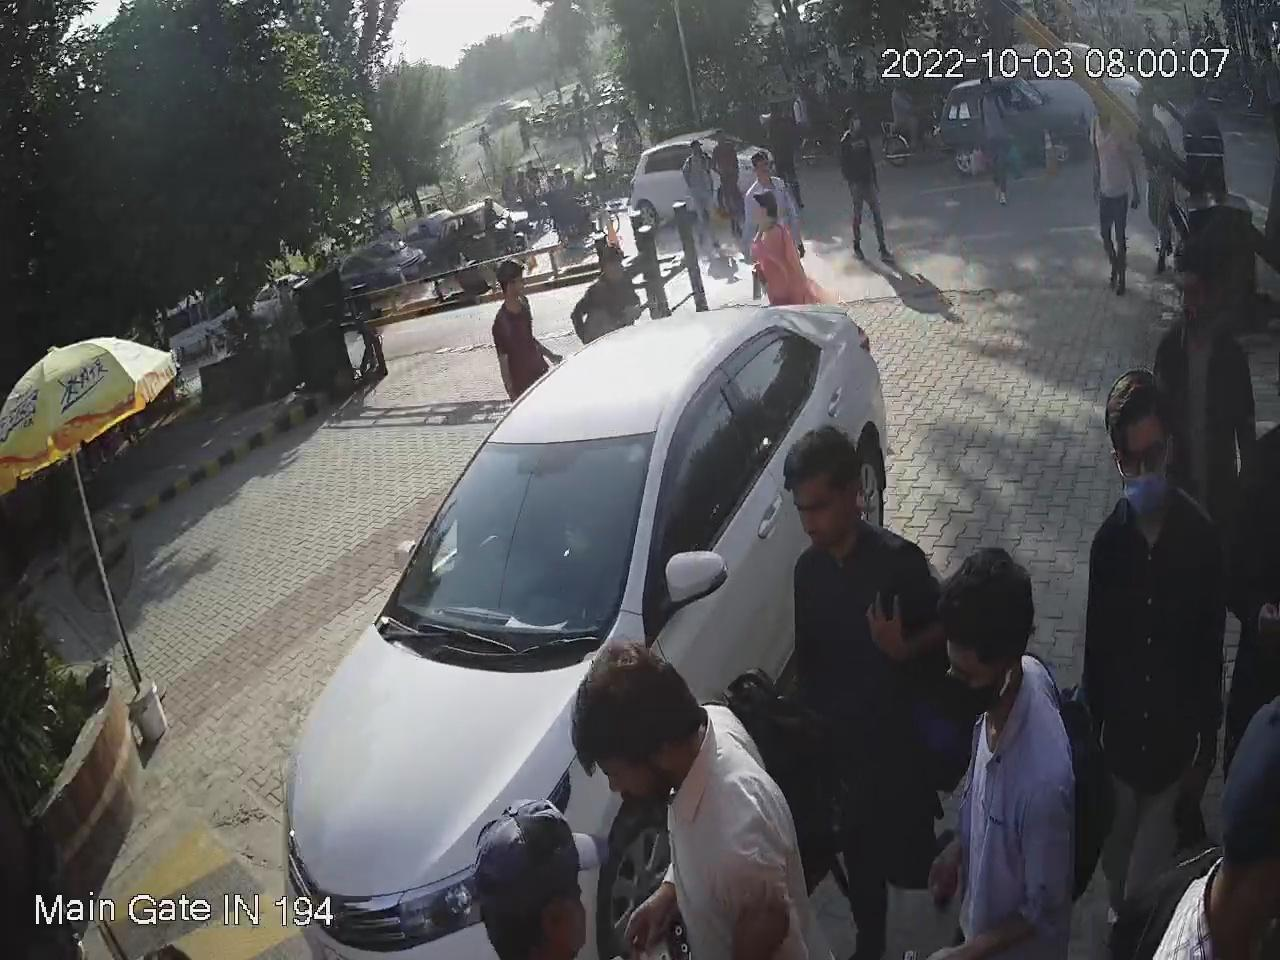windshield: (376, 438, 645, 647)
